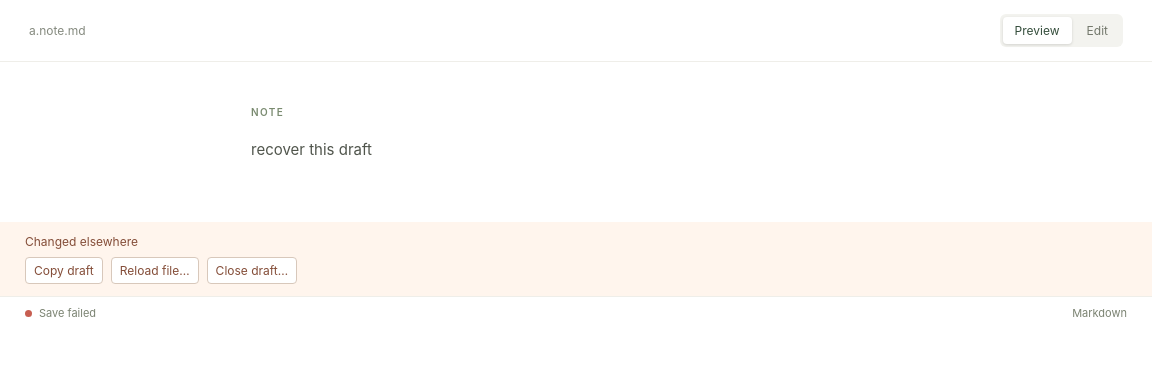
Test: copies an unsaved conflict draft through the native boundary without browser clipboard support
Click the button "Copy draft": (64, 270) [25, 257, 103, 284]
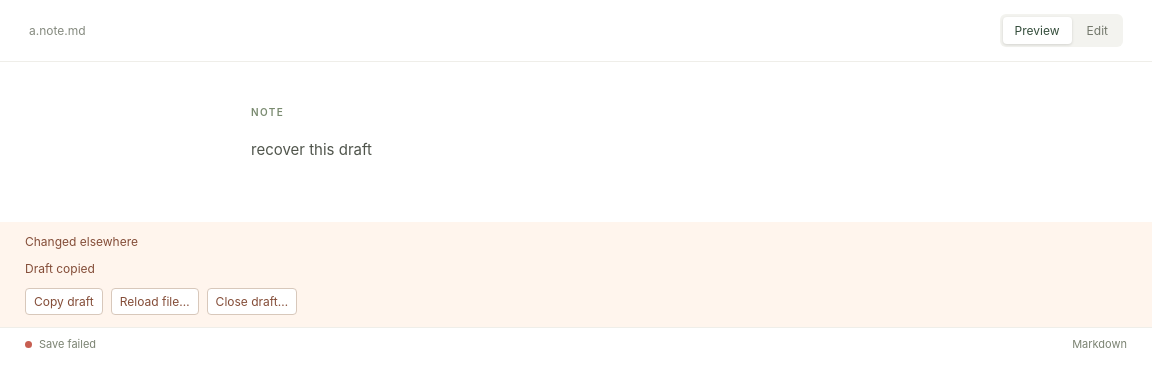
Expected: the text "recover this draft" is shown, [251, 140, 372, 159]
Now the text "Draft copied" is shown, box [25, 261, 95, 276]
